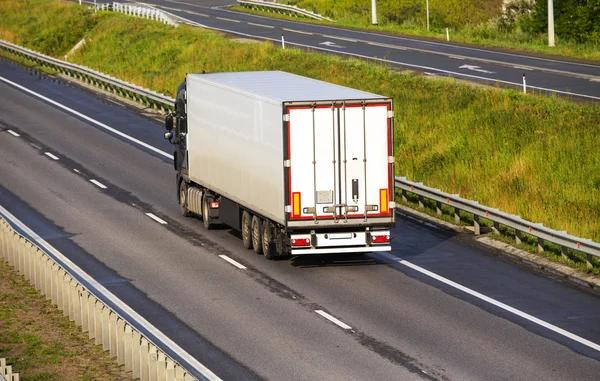vehicle: (165, 69, 396, 259)
